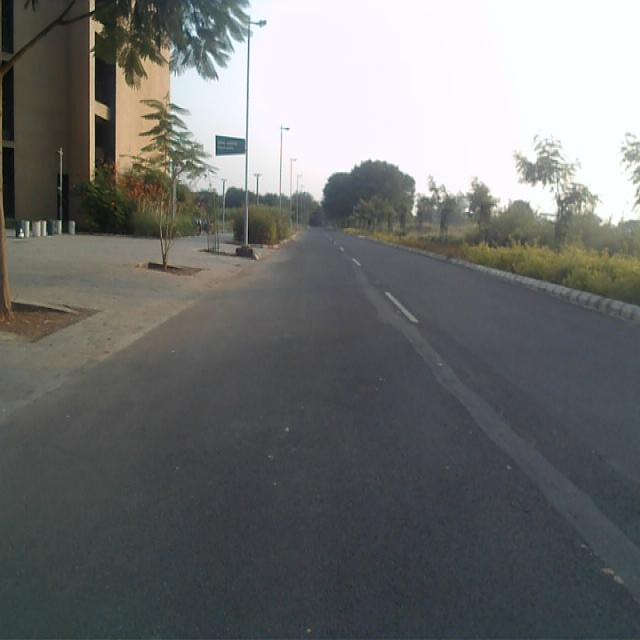lane: (0, 233, 640, 640)
